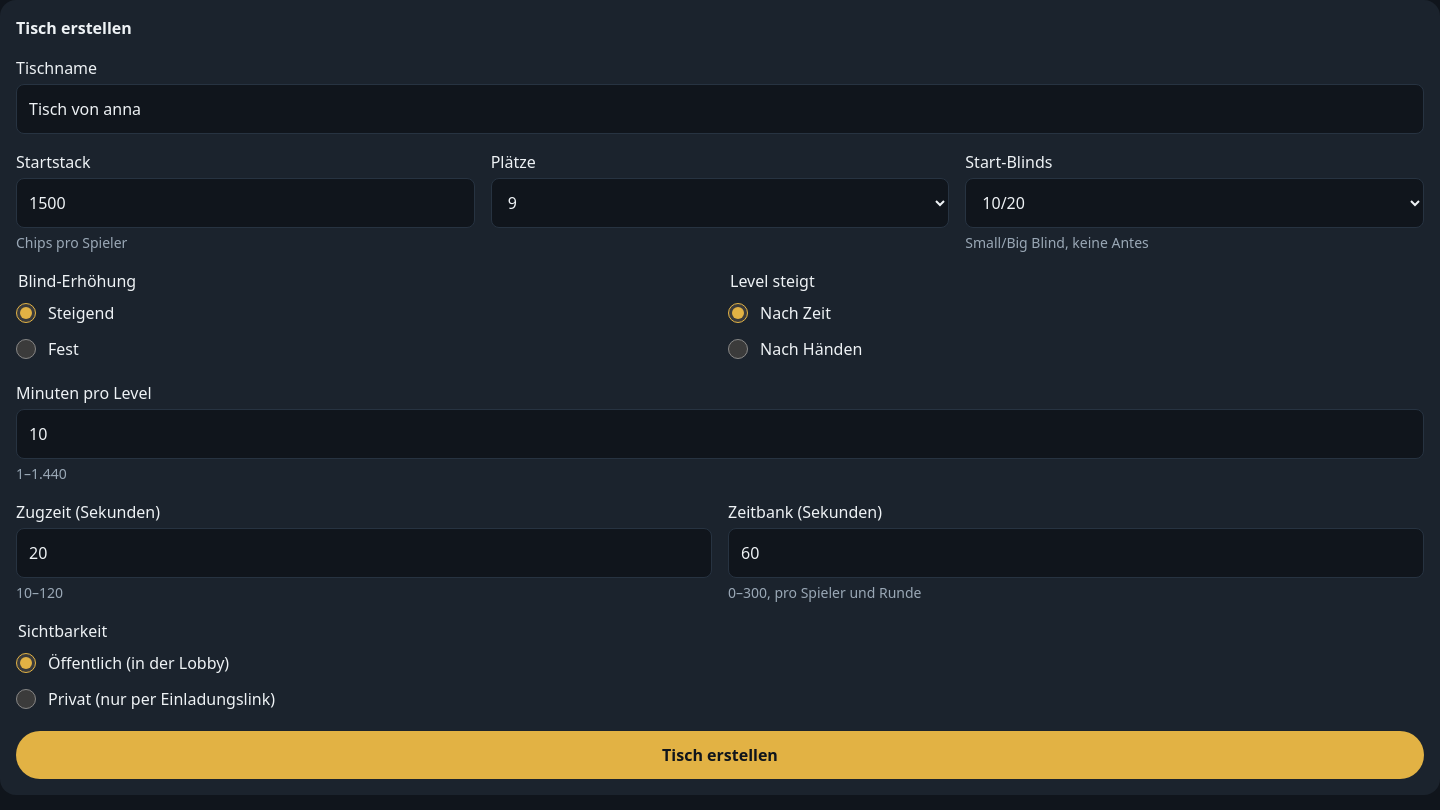
Test case: CreateTableForm › Big Blind größer als der Startstack wird abgelehnt
Replace the text in the field labelled "Startstack" with "100" at (245, 203), box [16,178,475,228]
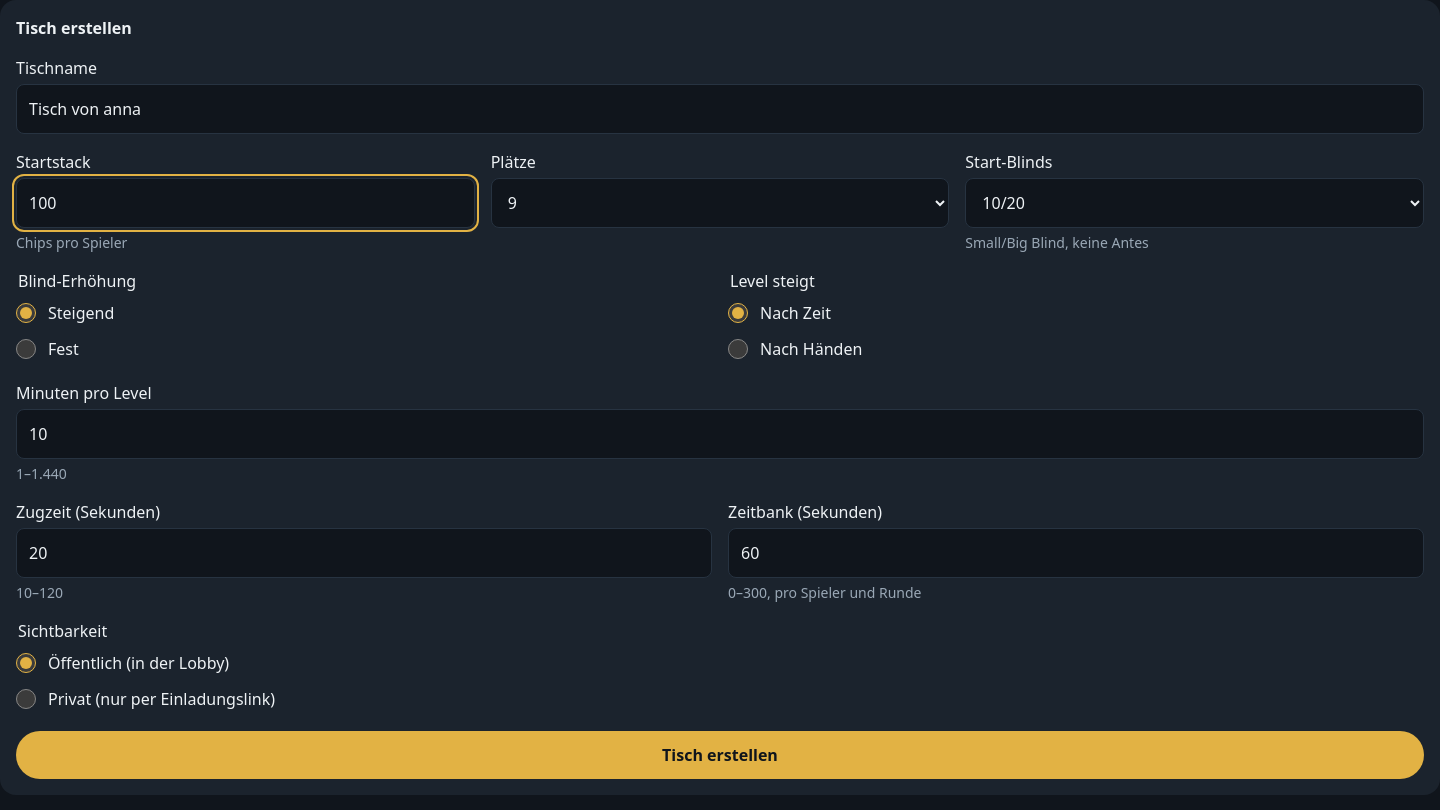
Select "100/200" in the dropdown labelled "Start-Blinds" at (1195, 203), box [965,178,1424,228]
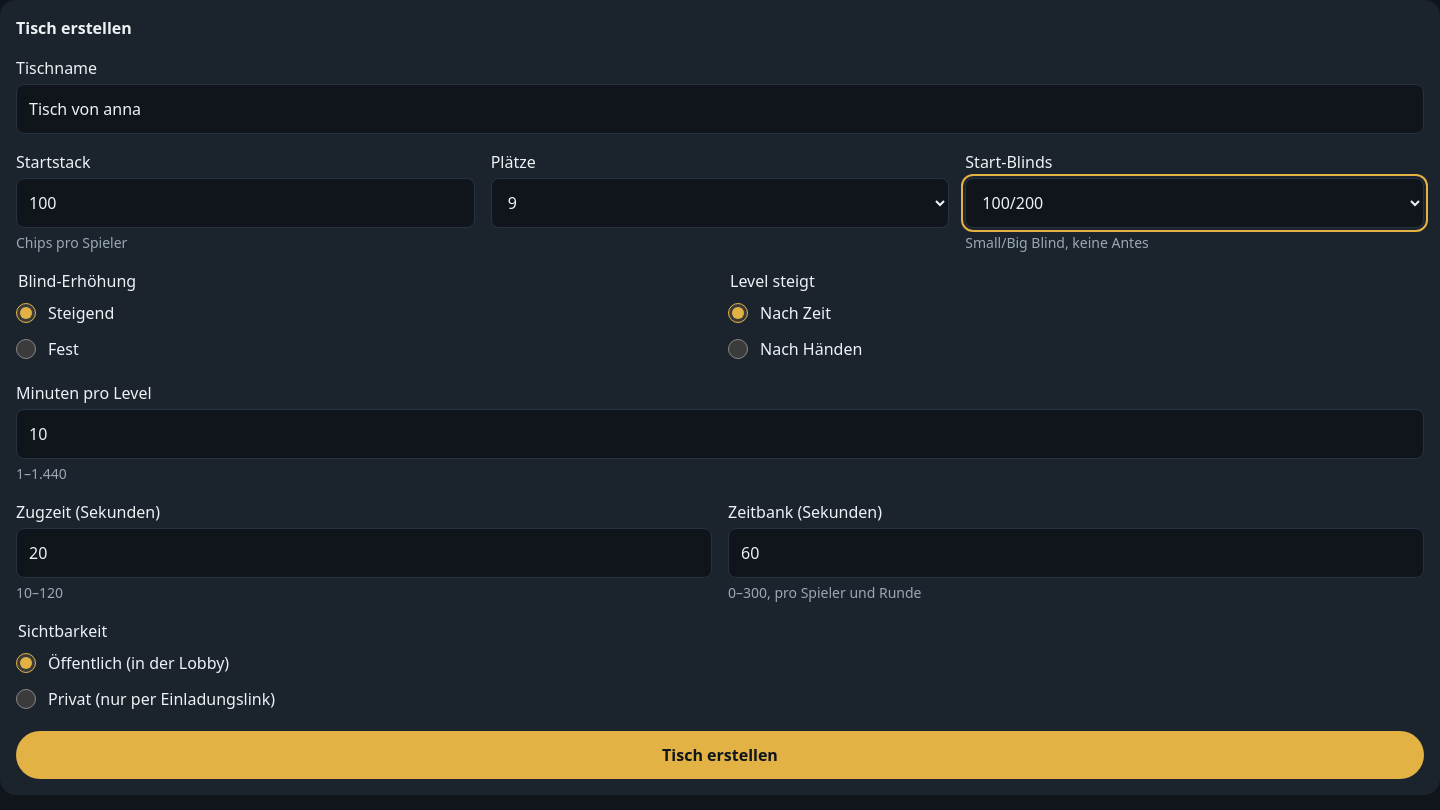
Click the button "Tisch erstellen".
click(720, 755)  # box [16,731,1424,779]
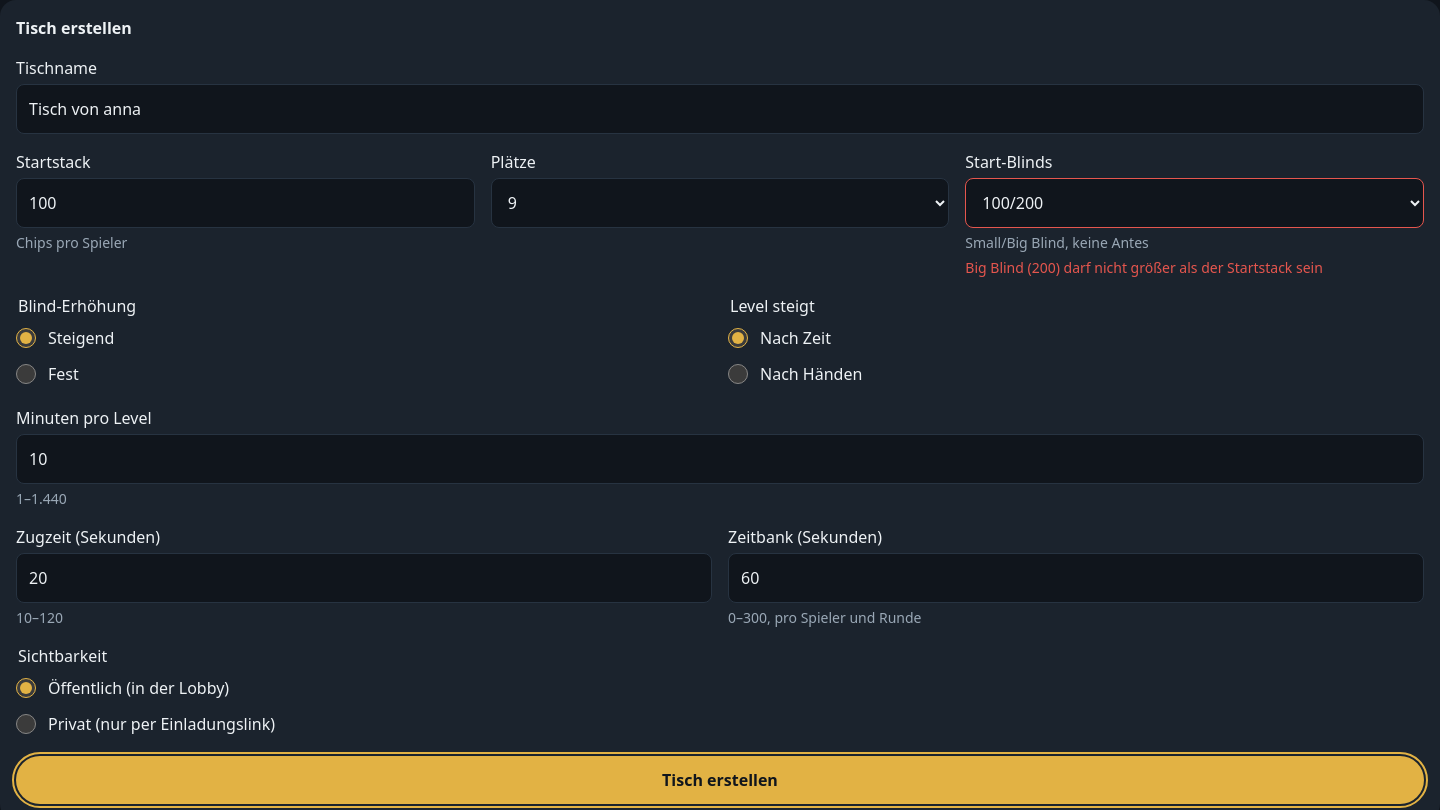
Expected: the text "Big Blind (200) darf nicht größer als der Startstack sein" is shown, [965,258,1323,277]
